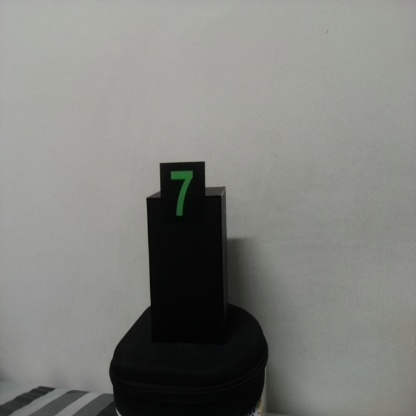id_7: (159, 162, 206, 234)
